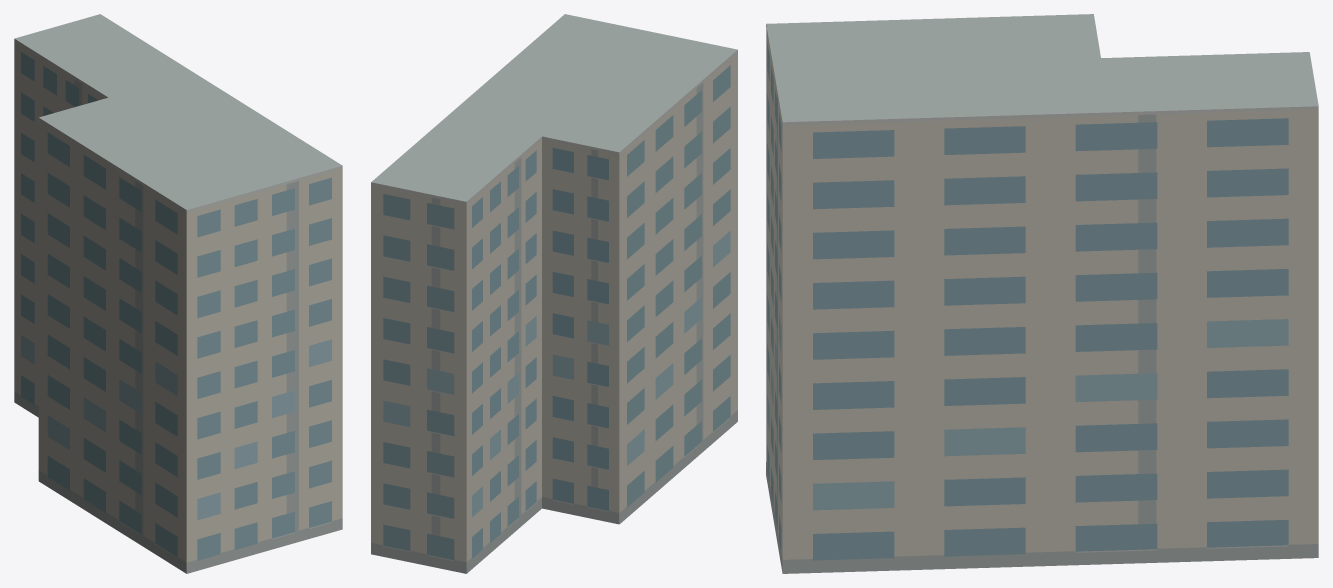
Rendered from residential-dbad79ff-4e69-46e0-b154-7f2c558a9a34.glb.
3 views of the same model, side by side, from view 1: azimuth 30°, elevation 25°; view 2: azimuth 150°, elevation 25°; view 3: azimuth 270°, elevation 25° (orthographic). The views are drawn at different scales.
Visible parts, largest first — view 1: residential-dbad79ff-4e69-46e0-b154-7f2c558a9a34.tmp; view 2: residential-dbad79ff-4e69-46e0-b154-7f2c558a9a34.tmp; view 3: residential-dbad79ff-4e69-46e0-b154-7f2c558a9a34.tmp.
Part boxes in pixels (x1,y1,x2,y2): residential-dbad79ff-4e69-46e0-b154-7f2c558a9a34.tmp: [14, 14, 342, 573]; residential-dbad79ff-4e69-46e0-b154-7f2c558a9a34.tmp: [371, 14, 737, 573]; residential-dbad79ff-4e69-46e0-b154-7f2c558a9a34.tmp: [766, 14, 1318, 573].
Size of the model in its own units: 16.97 by 33 by 36.6.
